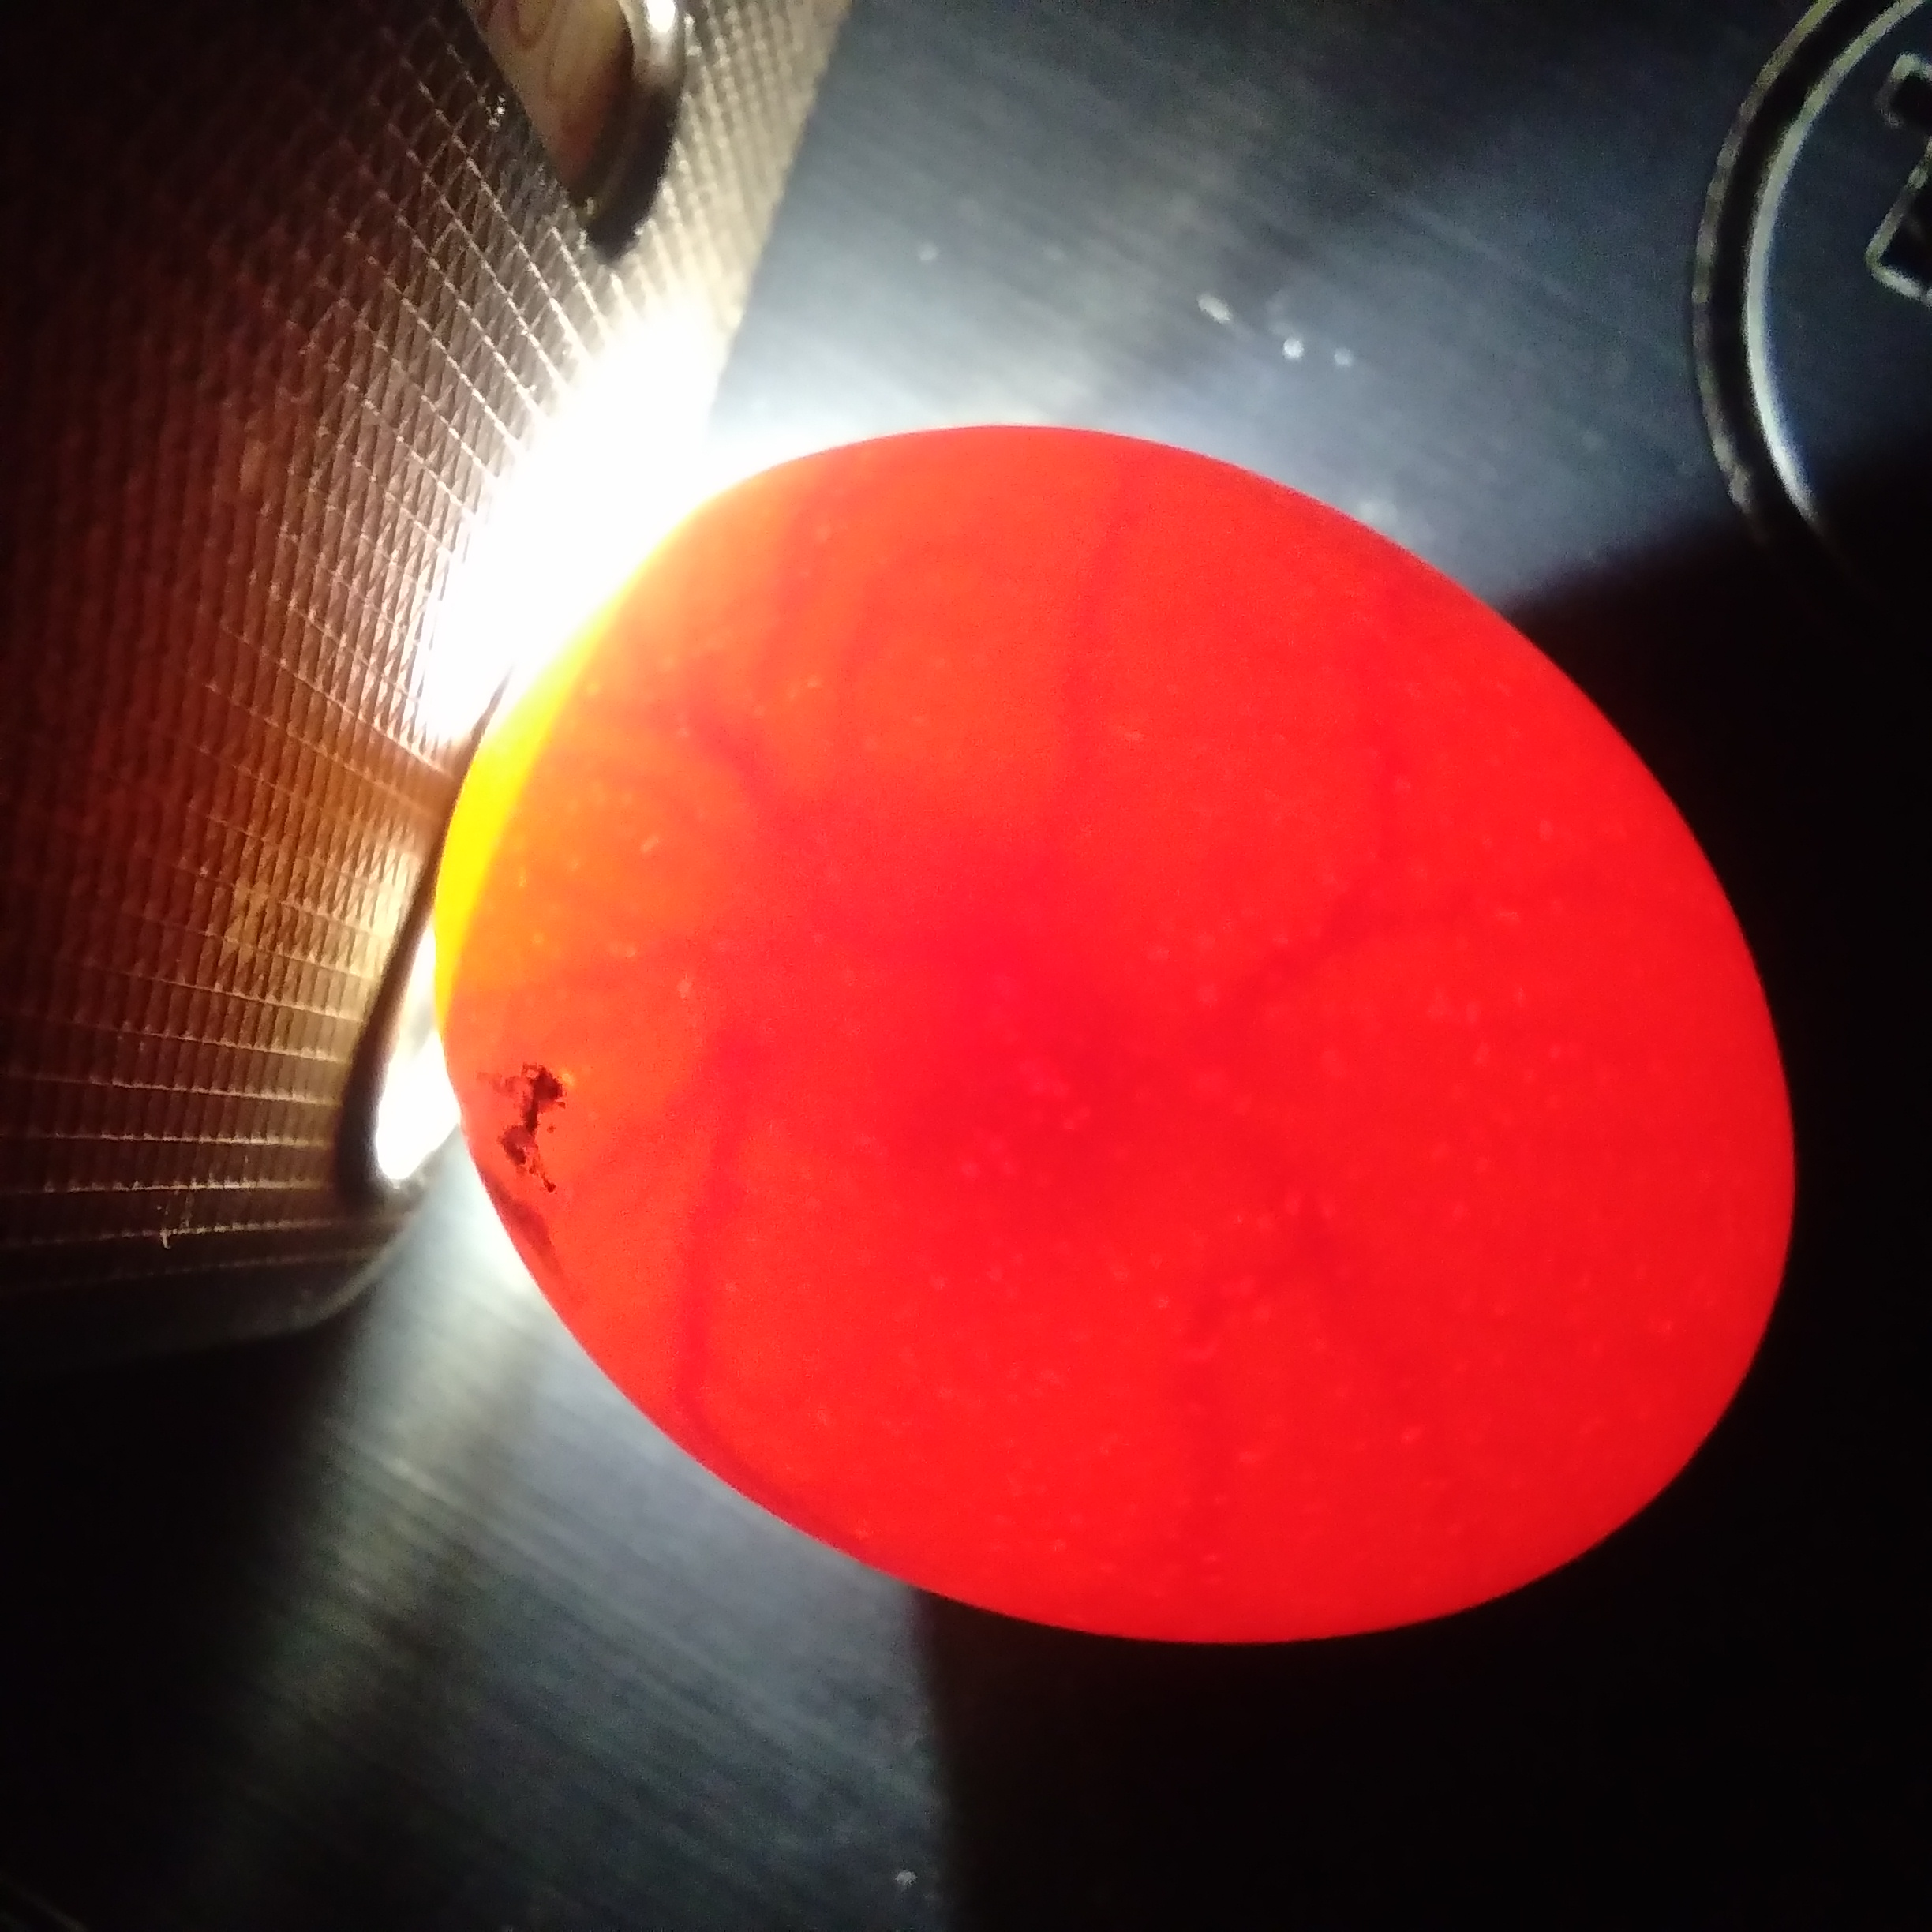bloodcell: (600, 637, 1120, 828), (487, 908, 727, 1258)
embryo: (759, 853, 961, 987)
